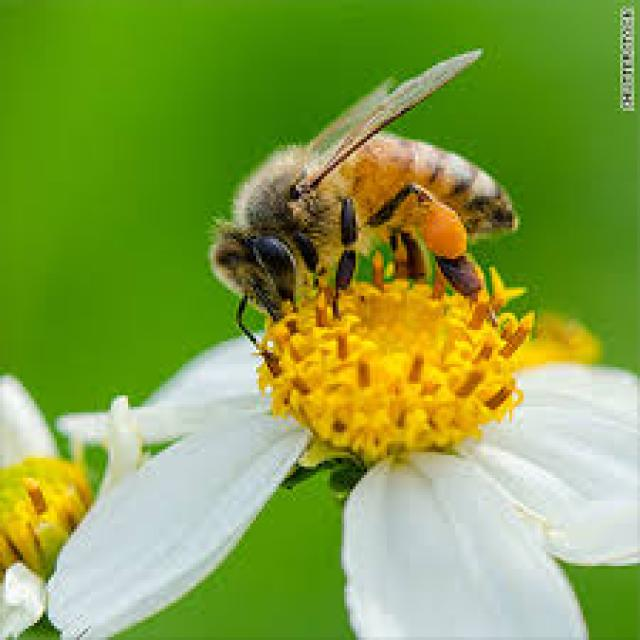Bees: (206, 46, 519, 334)
